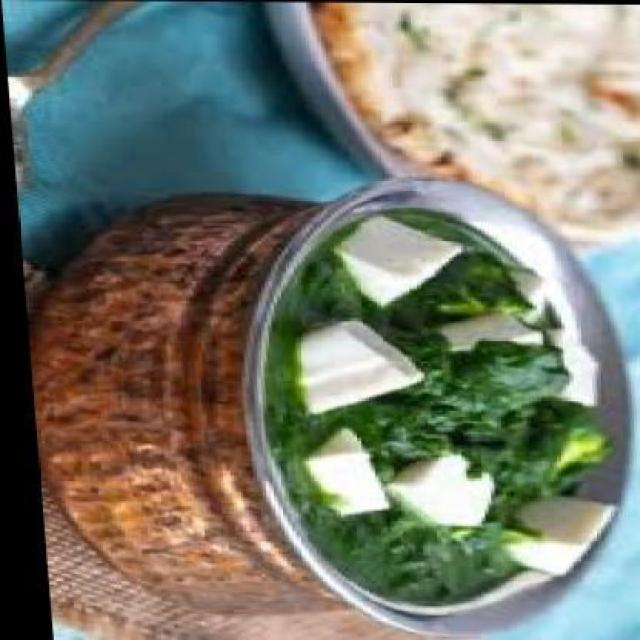palak_paneer: (242, 206, 610, 608)
